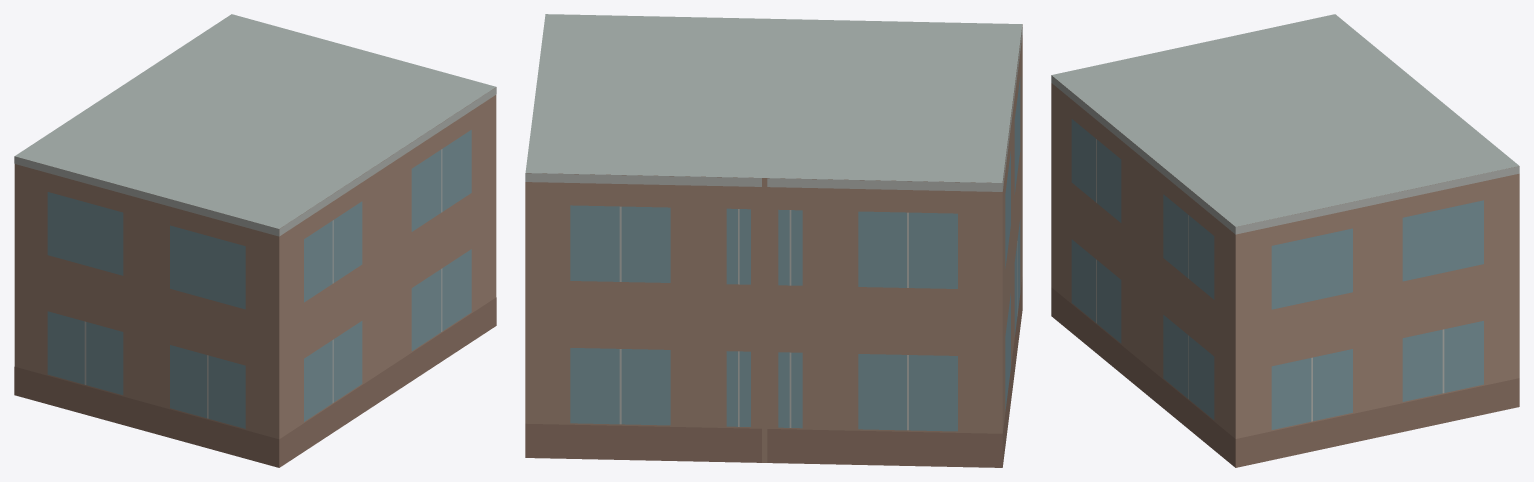
The model's file is survey-upis-32977652.glb.
The picture shows the model from 3 angles, left to right: view 1: azimuth 30°, elevation 25°; view 2: azimuth 150°, elevation 25°; view 3: azimuth 270°, elevation 25°; orthographic projection. The views are drawn at different scales.
Visible parts, largest first — view 1: survey-upis-32977652.tmp; view 2: survey-upis-32977652.tmp; view 3: survey-upis-32977652.tmp.
Part boxes in pixels (<box>): survey-upis-32977652.tmp: <box>14,14,496,467</box>; survey-upis-32977652.tmp: <box>525,14,1022,467</box>; survey-upis-32977652.tmp: <box>1051,14,1519,467</box>.
Size of the model in its own units: 14.61 by 7.7 by 13.58.
